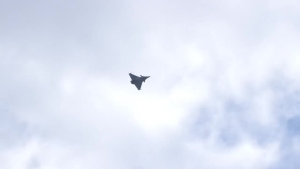flight: (128, 72, 151, 91)
